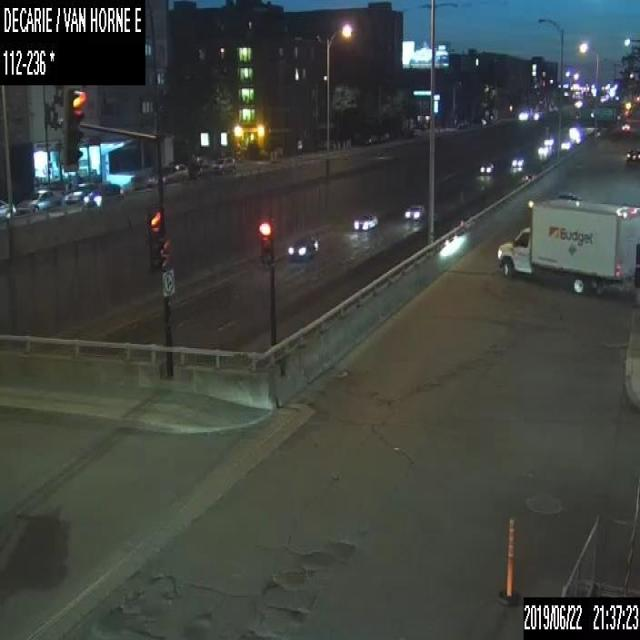construction: (496, 515, 520, 604)
vehicle: (498, 200, 639, 294), (18, 188, 62, 211), (147, 161, 189, 185), (82, 183, 124, 206), (286, 232, 318, 259), (64, 183, 94, 202), (352, 210, 378, 230), (210, 156, 236, 173), (404, 200, 424, 217), (550, 191, 582, 200), (0, 198, 15, 216), (478, 159, 494, 173), (625, 146, 639, 162), (511, 154, 523, 167), (621, 121, 630, 130)
